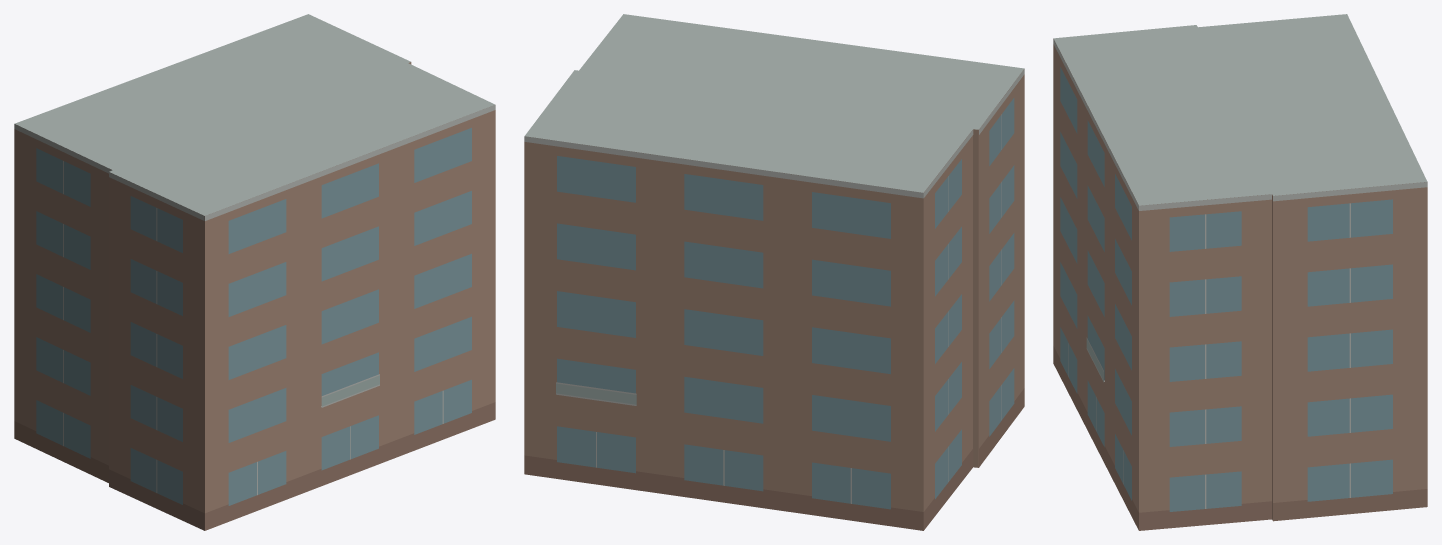
The model's file is survey-upis-32816710.glb.
3 views of the same model, side by side, from view 1: azimuth 30°, elevation 25°; view 2: azimuth 150°, elevation 25°; view 3: azimuth 270°, elevation 25° (orthographic). The views are drawn at different scales.
Parts seen in each view (by area): view 1: survey-upis-32816710.tmp; view 2: survey-upis-32816710.tmp; view 3: survey-upis-32816710.tmp.
Part boxes in pixels (<box>): survey-upis-32816710.tmp: <box>14,14,495,530</box>; survey-upis-32816710.tmp: <box>524,14,1024,530</box>; survey-upis-32816710.tmp: <box>1053,14,1427,530</box>.
Bounding box in the file's own units: 18.51 × 14.64 × 15.27.
